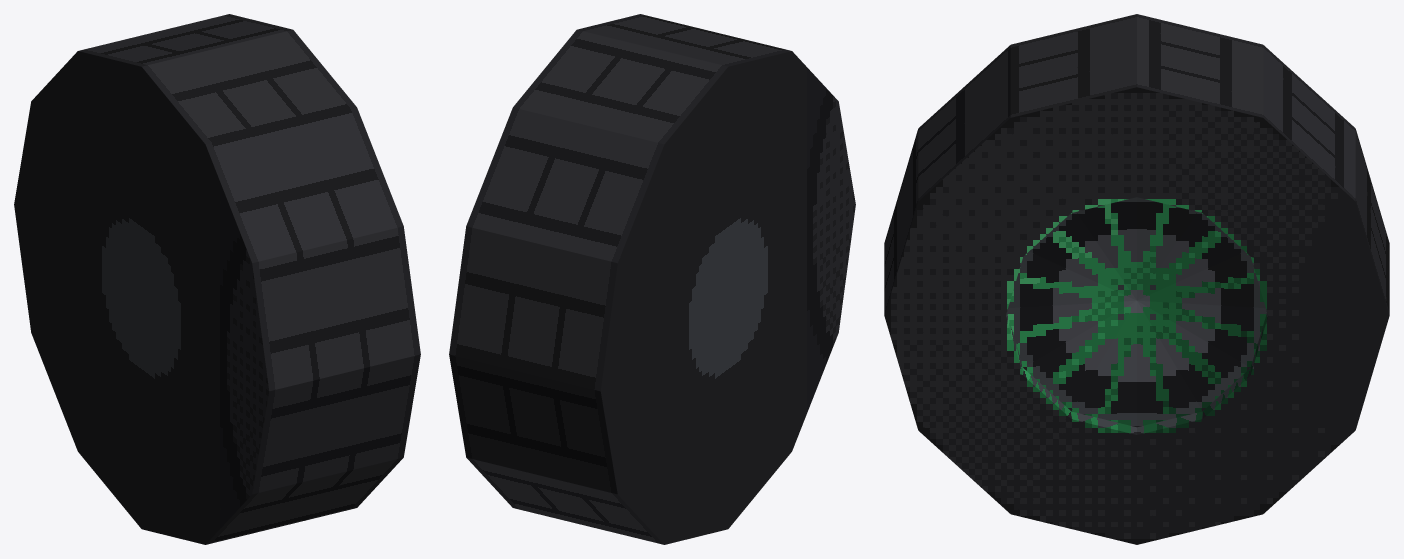
File: wheel_rally.glb
3 views of the same model, side by side, from view 1: azimuth 30°, elevation 25°; view 2: azimuth 150°, elevation 25°; view 3: azimuth 270°, elevation 25° (orthographic).
Visible parts, largest first — view 1: wheel_rally; view 2: wheel_rally; view 3: wheel_rally.
Boxes of the visible parts, x1,y1,x2,y2 form: wheel_rally: [14, 14, 420, 544]; wheel_rally: [449, 14, 855, 544]; wheel_rally: [884, 14, 1389, 544].
Bounding box in the file's own units: 0.285 × 0.8308 × 0.8308.
1 material, 1 textured.
